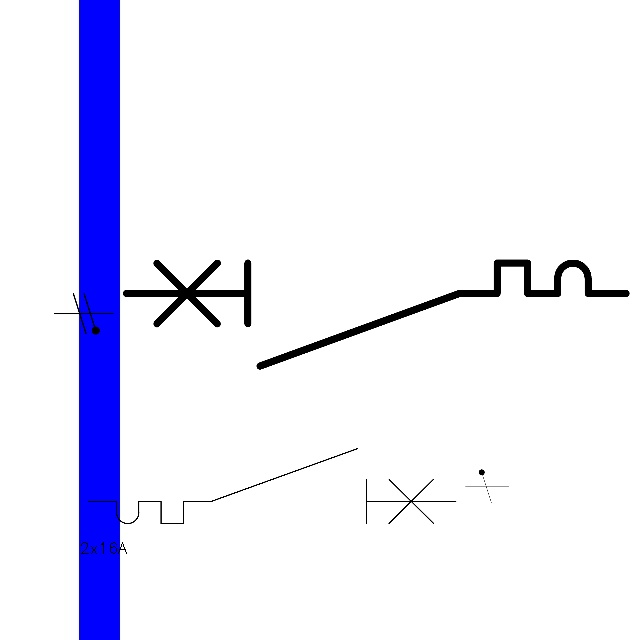interruptor_termomagnetico: (113, 250, 639, 378), (79, 439, 465, 533)
